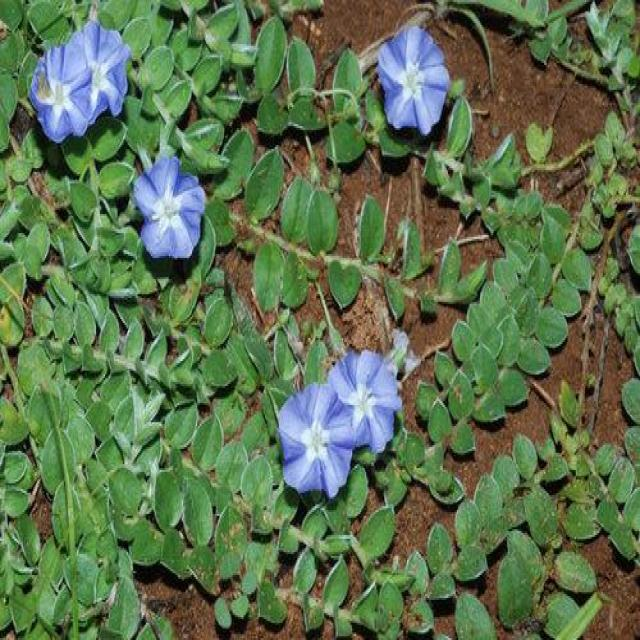organic waste: (271, 364, 359, 511), (369, 16, 453, 156), (127, 144, 207, 270), (327, 339, 399, 471), (21, 37, 97, 150), (63, 16, 134, 123)
